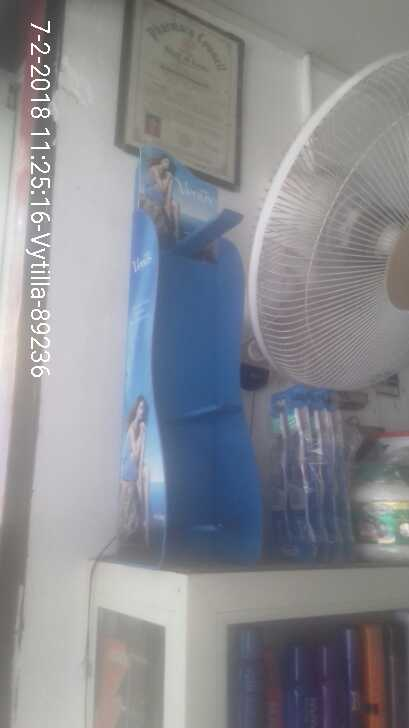reject: (182, 313, 392, 398)
